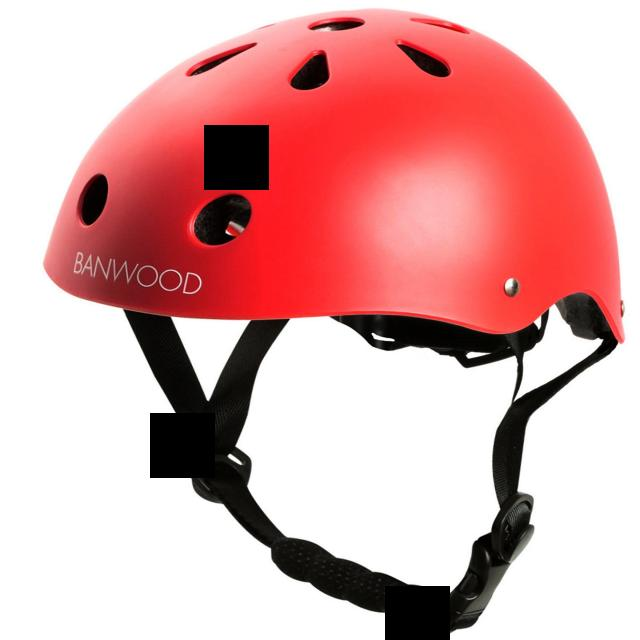Helmet: (42, 3, 629, 349)
